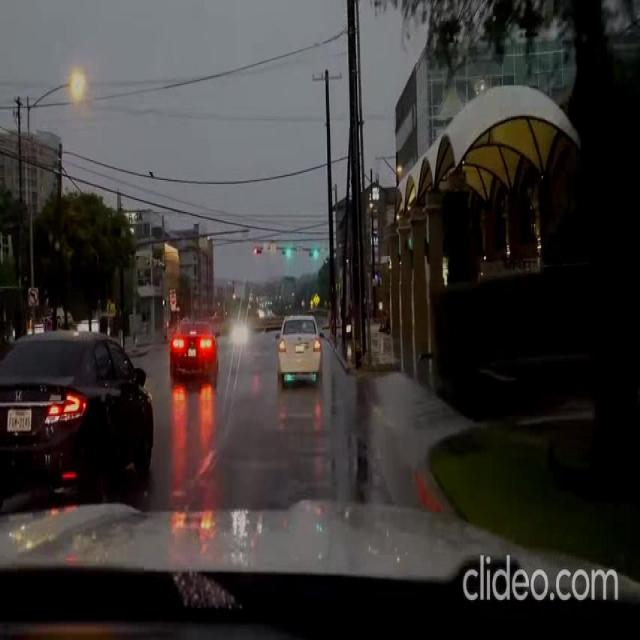Car: (0, 333, 154, 485), (274, 313, 322, 385), (168, 320, 217, 384)
